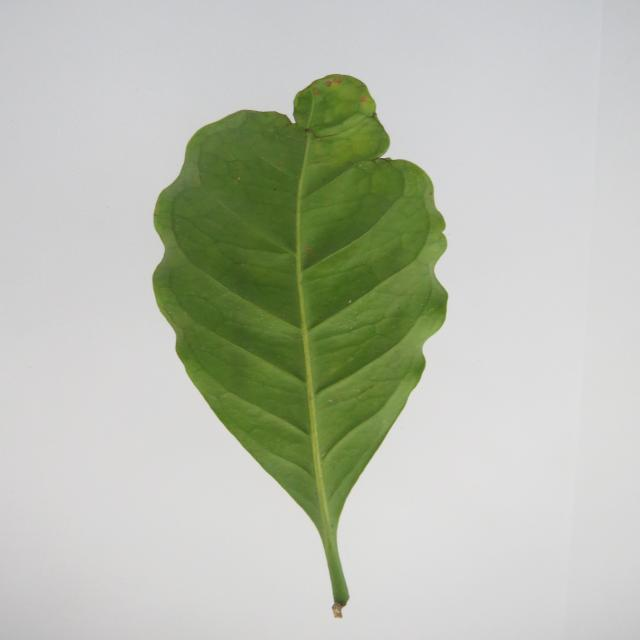DeficienciaNutricional-Calcio: (153, 75, 447, 615)
